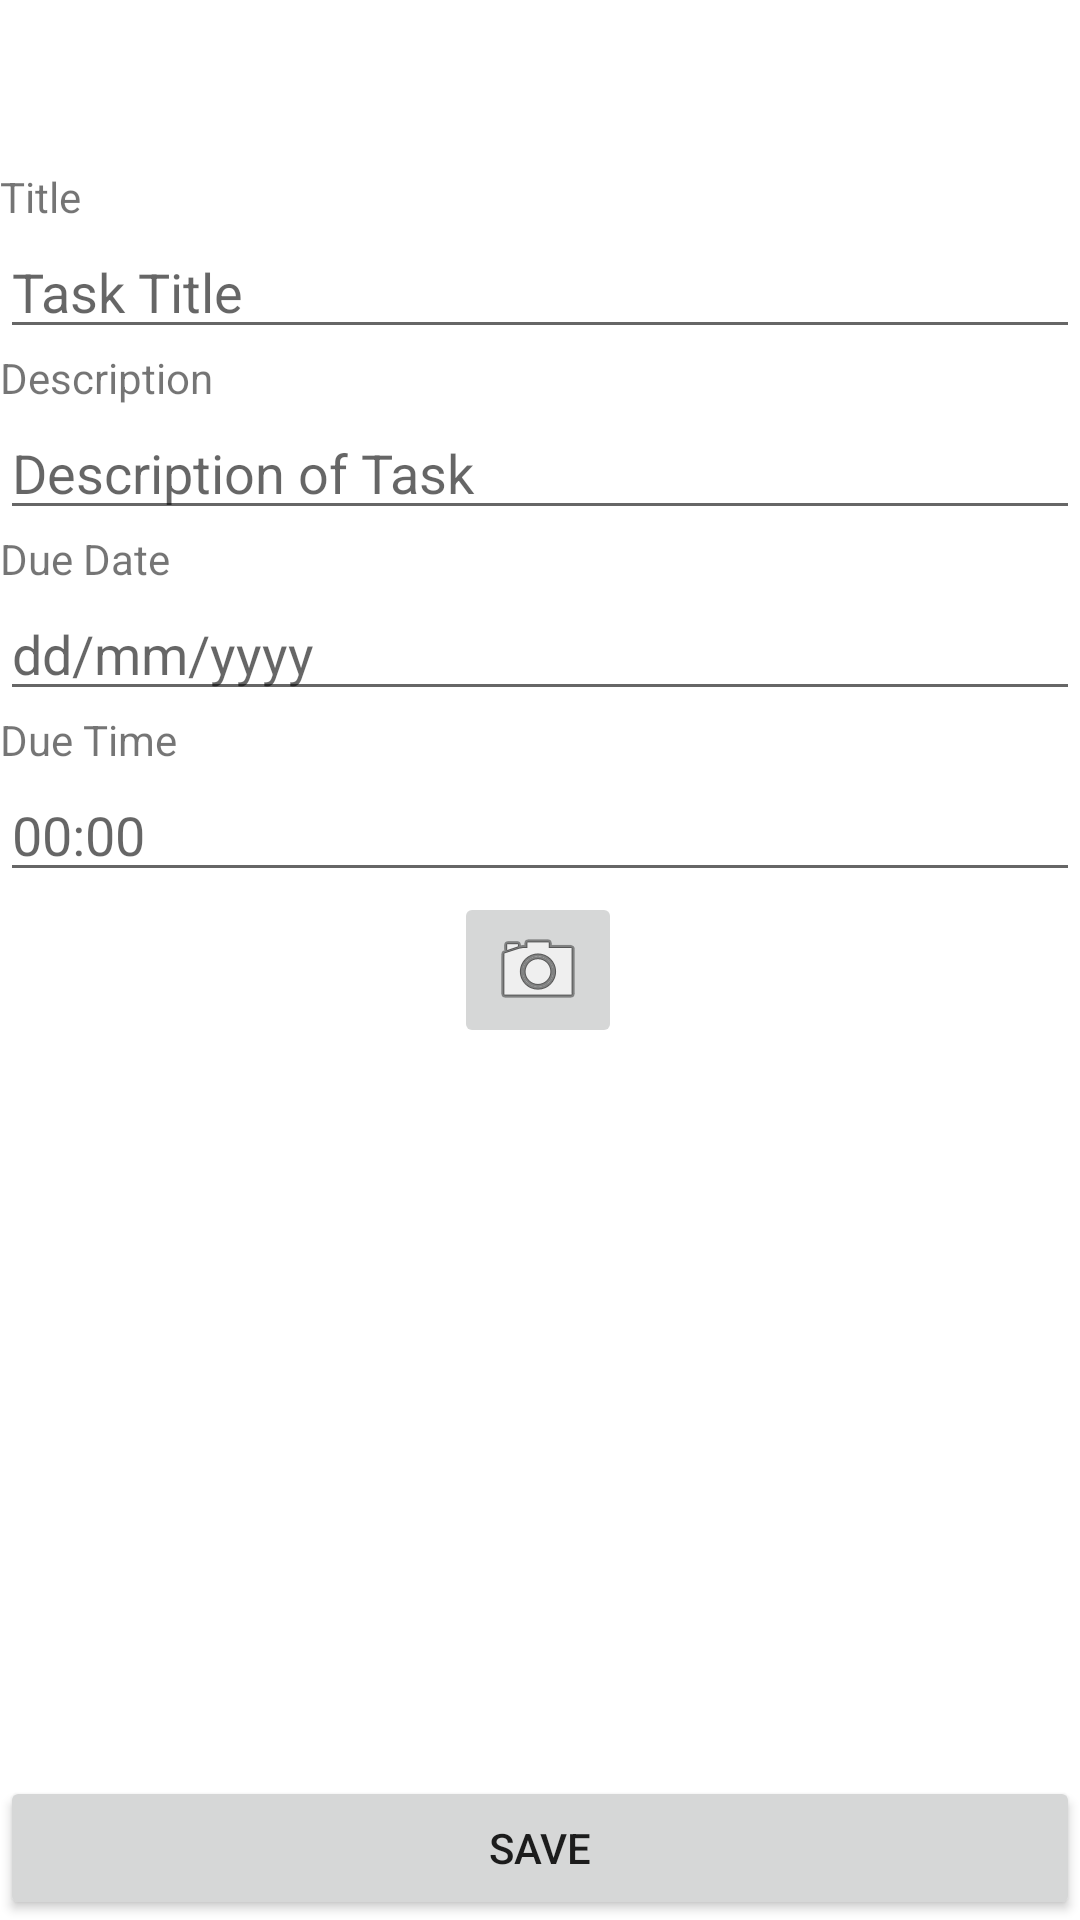

Where to tap for icons on this 1080w x 1920h app screen, as (x=x, y=y):
camera: (x=538, y=970)
